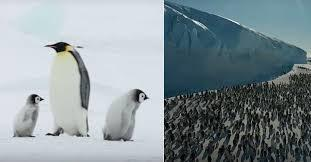emporer: (40, 37, 100, 146)
